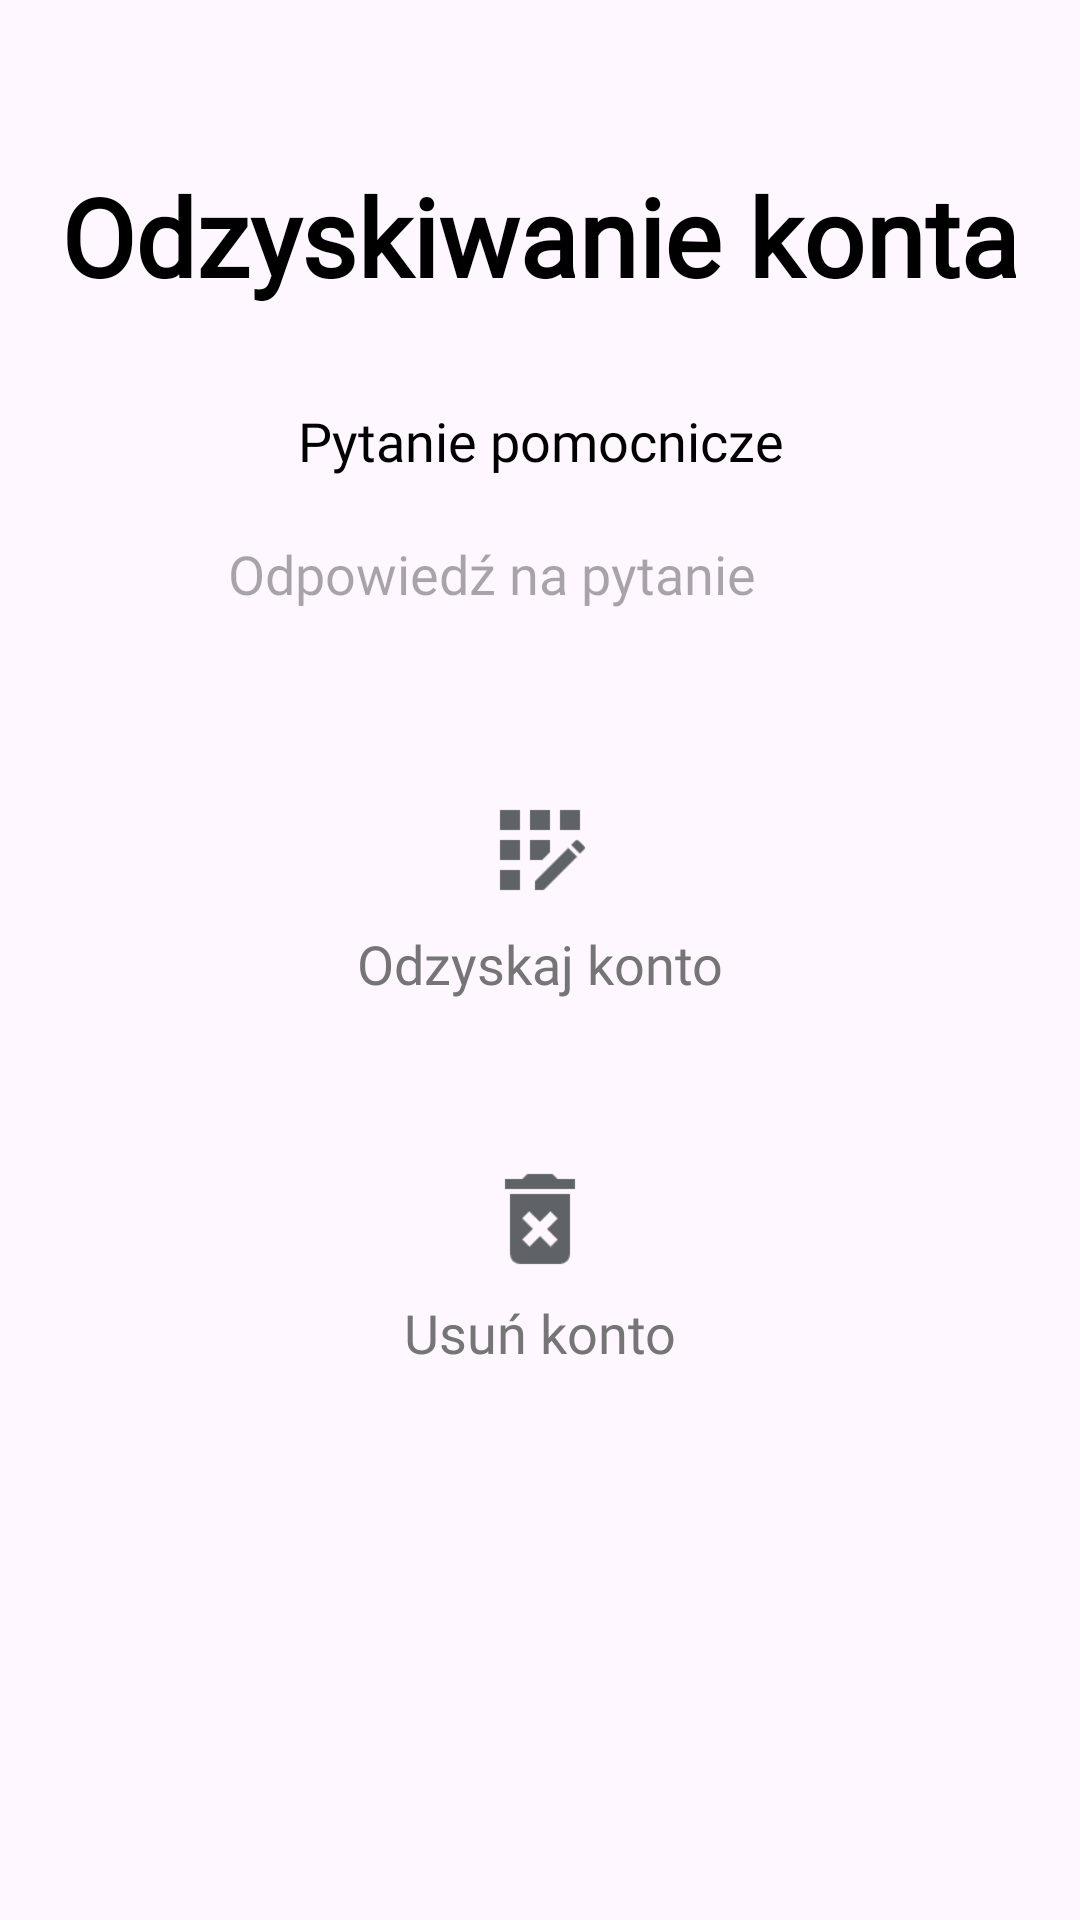

Locate icon controls on the screen. Image size 1080px×1920px, boxes as [left=x1, top=y1, right=x2, bottom=y2].
Ikona usuwania konta: [left=505, top=1174, right=575, bottom=1264]
